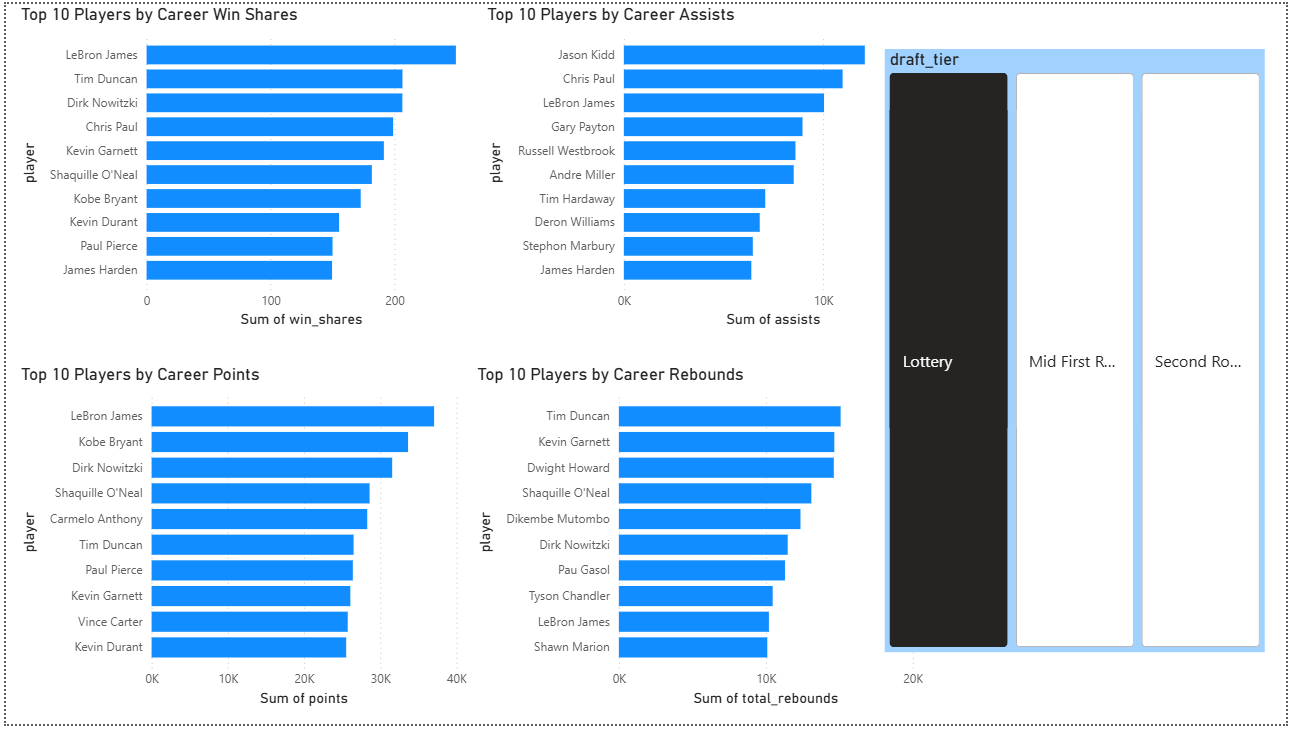

The page's visual inventory and layout, read from the dashboard file:
{"tool":"powerbi","page":{"name":"Player Performance Analysis","canvas":[1280,720],"ordinal":1},"visuals":[{"type":"clusteredBarChart","title":"Top 10 Players by Career Win Shares","fields":{"Category":["nba_draft_analytics_dataset.player"],"Y":["Sum(nba_draft_analytics_dataset.win_shares)"]},"box":[10,0,455.7,328.6],"z":0},{"type":"clusteredBarChart","title":"Top 10 Players by Career Points","fields":{"Category":["nba_draft_analytics_dataset.player"],"Y":["Sum(nba_draft_analytics_dataset.points)"]},"box":[10,360,455.7,347.1],"z":1000},{"type":"clusteredBarChart","title":"Top 10 Players by Career Assists","fields":{"Category":["nba_draft_analytics_dataset.player"],"Y":["Sum(nba_draft_analytics_dataset.assists)"]},"box":[475.7,0,455.7,328.6],"z":2000},{"type":"clusteredBarChart","title":"Top 10 Players by Career Rebounds","fields":{"Category":["nba_draft_analytics_dataset.player"],"Y":["Sum(nba_draft_analytics_dataset.total_rebounds)"]},"box":[465.7,360,455.7,347.1],"z":3000},{"type":"advancedSlicerVisual","fields":{"Values":["nba_draft_analytics_dataset.draft_tier"]},"box":[878.3,45,380,603.3],"z":4000}]}

Visuals, with their boxes in screenshot pixels (x1, y1, x2, y2), scaled from the page's 1280x720 canvas onto the 1292x732 screenshot:
"Top 10 Players by Career Win Shares" clusteredBarChart: x1=10 y1=0 x2=470 y2=334
"Top 10 Players by Career Points" clusteredBarChart: x1=10 y1=366 x2=470 y2=719
"Top 10 Players by Career Assists" clusteredBarChart: x1=480 y1=0 x2=940 y2=334
"Top 10 Players by Career Rebounds" clusteredBarChart: x1=470 y1=366 x2=930 y2=719
advancedSlicerVisual - nba_draft_analytics_dataset.draft_tier: x1=887 y1=46 x2=1270 y2=659
